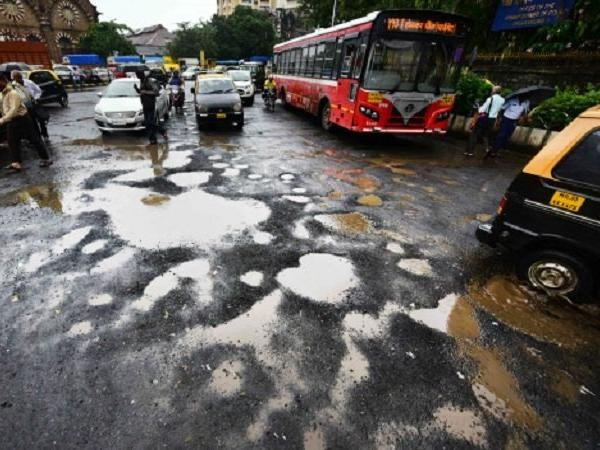pothole: (251, 257, 489, 347), (60, 157, 284, 248), (311, 205, 436, 278)
